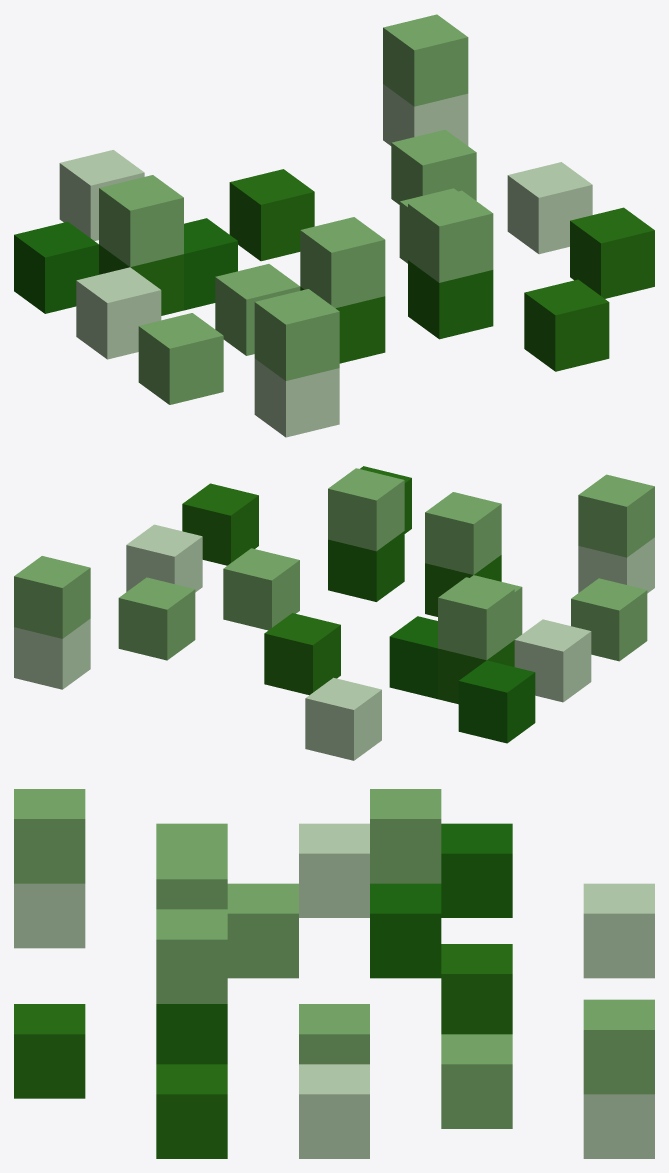
File: UI_tilemodel00.obj
3 renders of one model, top to bottom at view 1: azimuth 30°, elevation 25°; view 2: azimuth 150°, elevation 25°; view 3: azimuth 270°, elevation 25°, orthographic. The views are drawn at different scales.
Bounding box in the file's own units: 9 × 2 × 9.
1 material, 1 textured.
